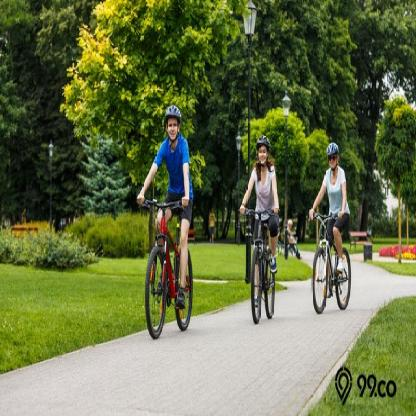Bike: (137, 186, 198, 345), (241, 199, 282, 329), (310, 208, 356, 316)
